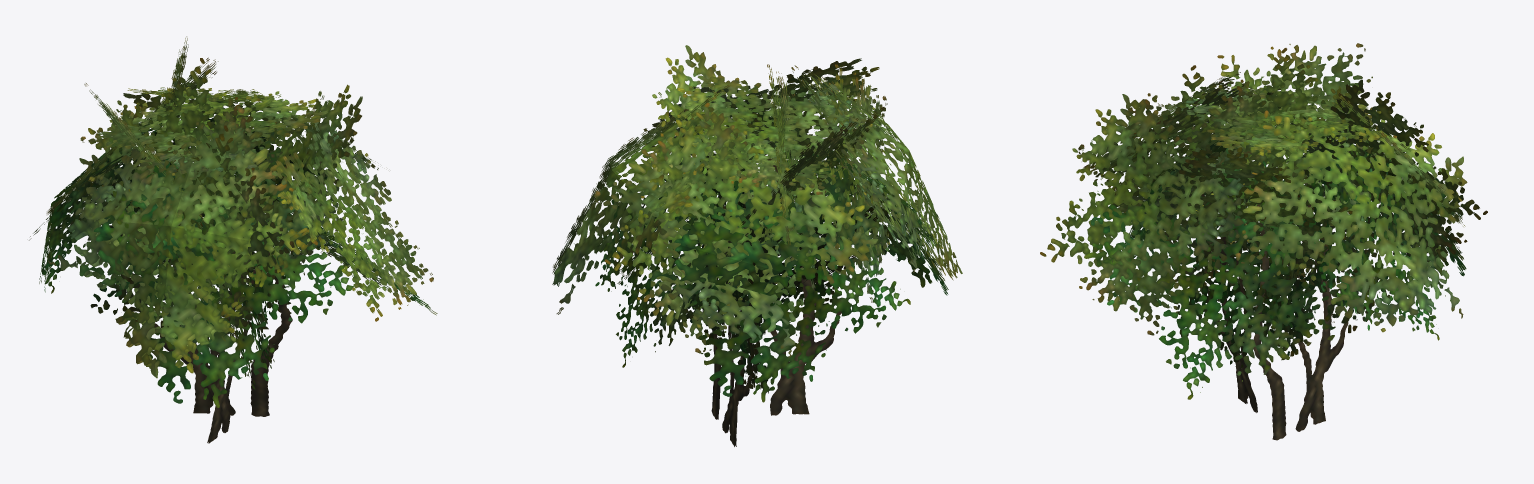
File: d_sd_zhiwu12_zw.FBX
3 views of the same model, side by side, from view 1: azimuth 30°, elevation 25°; view 2: azimuth 150°, elevation 25°; view 3: azimuth 270°, elevation 25° (orthographic).
Parts seen in each view (by area): view 1: d_sd_zhiwu12_zw_01A; view 2: d_sd_zhiwu12_zw_01A; view 3: d_sd_zhiwu12_zw_01A.
Part boxes in pixels (x1,y1,x2,y2): d_sd_zhiwu12_zw_01A: (29, 36, 437, 443); d_sd_zhiwu12_zw_01A: (552, 45, 962, 446); d_sd_zhiwu12_zw_01A: (1040, 43, 1487, 440).
Bounding box in the file's own units: 133 × 144 × 153.
